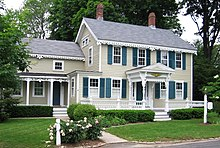Window: (33, 79, 44, 97), (137, 49, 146, 66), (112, 46, 121, 63), (54, 60, 64, 71), (175, 53, 182, 68), (89, 77, 98, 87), (111, 78, 120, 87), (175, 83, 183, 89)
